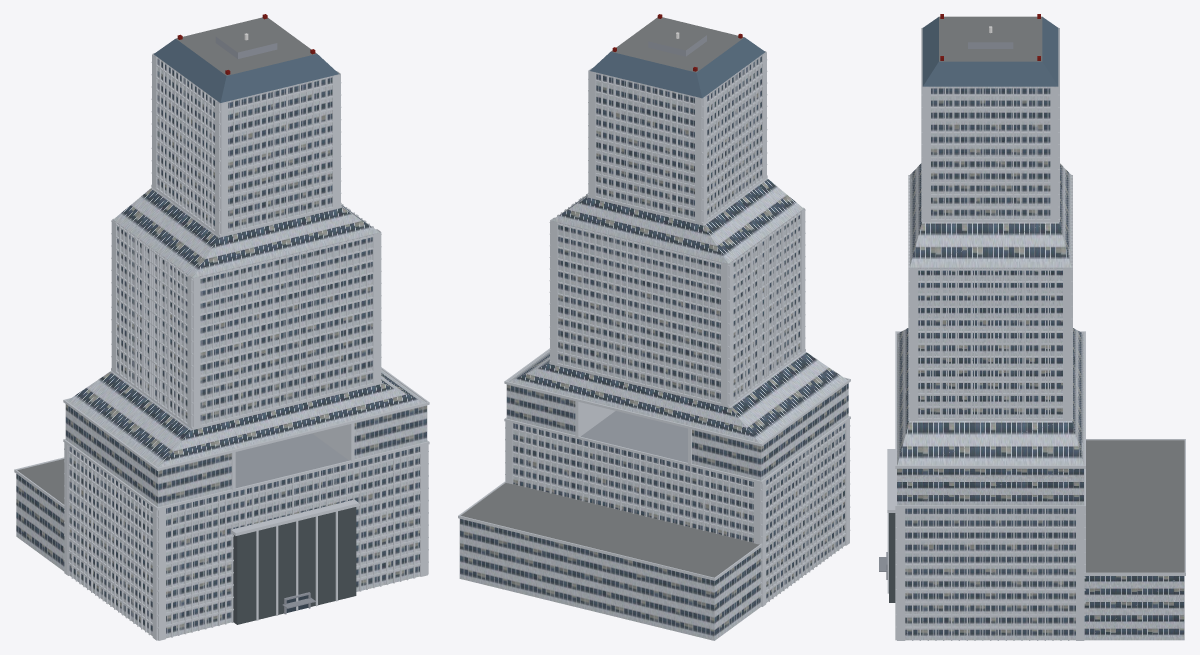
File: nec_supertower.glb
3 renders of one model, left to right at view 1: azimuth 30°, elevation 25°; view 2: azimuth 150°, elevation 25°; view 3: azimuth 270°, elevation 25°, orthographic. The views are drawn at different scales.
Visible parts, largest first — view 1: nec_supertower; view 2: nec_supertower; view 3: nec_supertower.
Boxes of the visible parts, x1,y1,x2,y2 form: nec_supertower: (14,14,429,640); nec_supertower: (458,14,850,640); nec_supertower: (879,14,1185,640).
Bounding box in the file's own units: 95 × 180 × 91.51.
2 materials, 2 textured.
